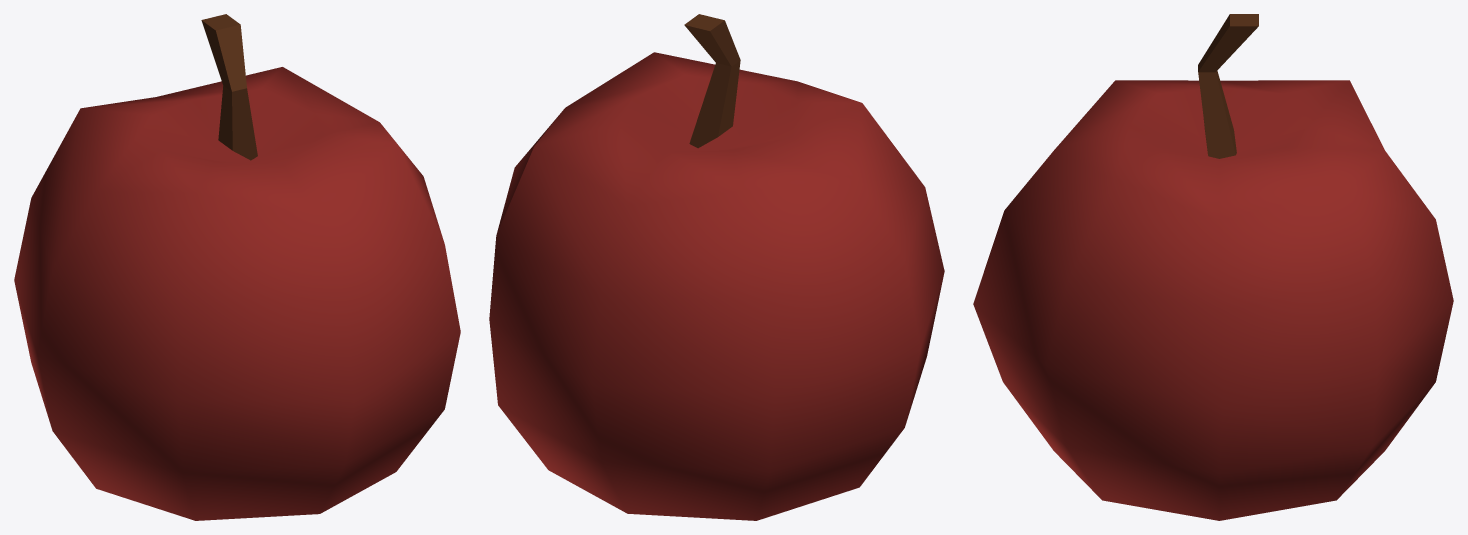
The model's file is apple.glb.
3 renders of one model, left to right at view 1: azimuth 30°, elevation 25°; view 2: azimuth 150°, elevation 25°; view 3: azimuth 270°, elevation 25°, orthographic. The views are drawn at different scales.
Visible parts, largest first — view 1: Cube.002; view 2: Cube.002; view 3: Cube.002.
Boxes of the visible parts, x1,y1,x2,y2 form: Cube.002: (14, 14, 460, 520); Cube.002: (489, 14, 944, 520); Cube.002: (973, 14, 1453, 520).
Bounding box in the file's own units: 2.02 × 2.14 × 2.05.
